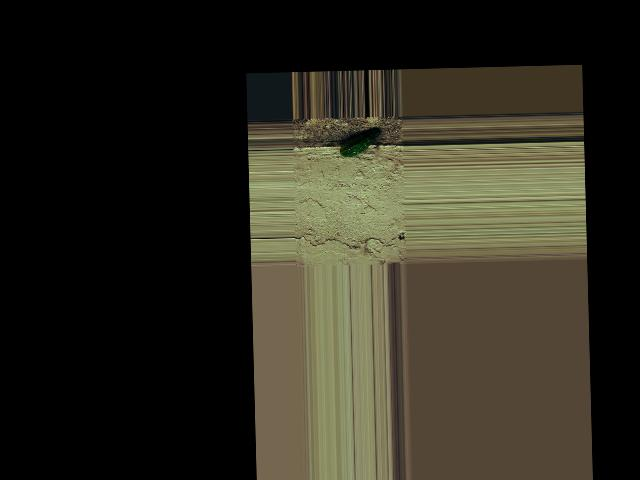cucumber: (339, 128, 379, 157)
